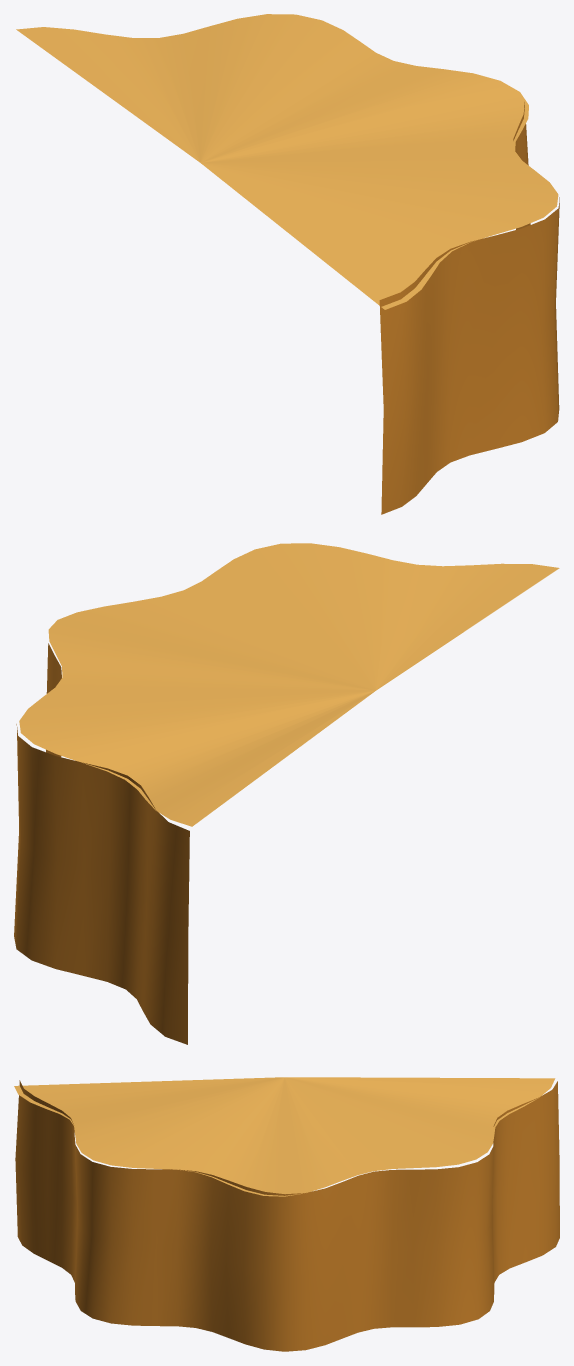
Rendered from tajada-zapallo.glb.
The picture shows the model from 3 angles, top to bottom: view 1: azimuth 30°, elevation 25°; view 2: azimuth 150°, elevation 25°; view 3: azimuth 270°, elevation 25°; orthographic projection. The views are drawn at different scales.
Visible parts, largest first — view 1: tajada; view 2: tajada; view 3: tajada.
Boxes of the visible parts, bbox=[...] form: tajada: bbox=[16, 14, 559, 514]; tajada: bbox=[14, 543, 559, 1044]; tajada: bbox=[14, 1077, 559, 1351].
Size of the model in its own units: 0.4449 by 0.2959 by 0.8874.
